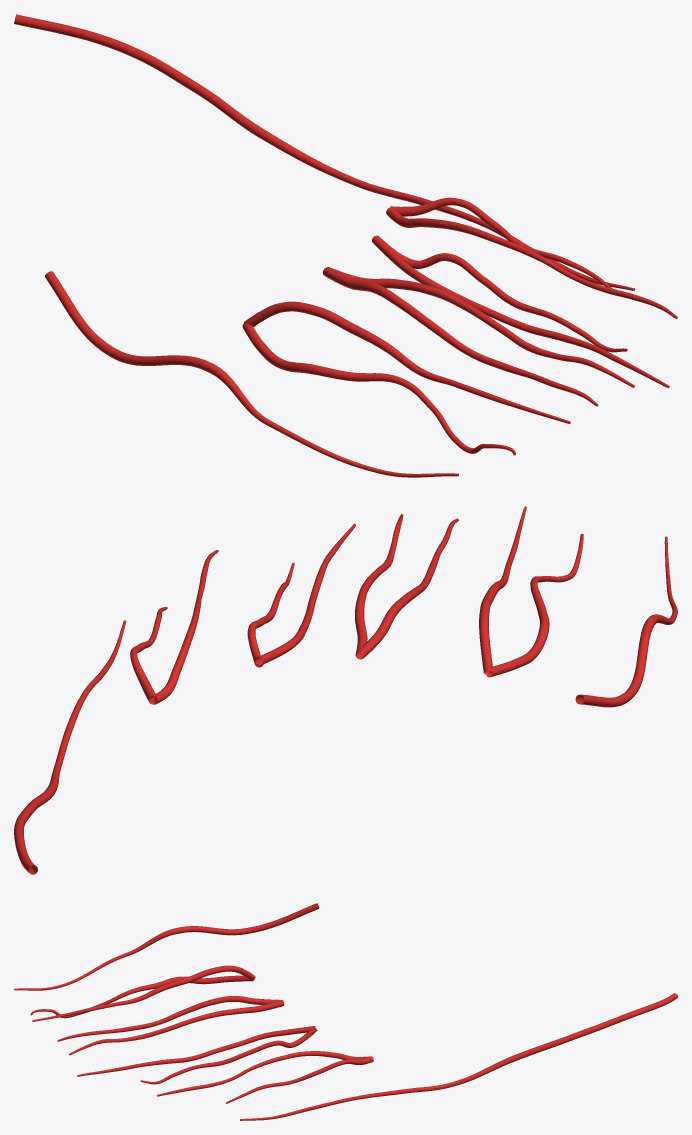
The model's file is circulatorio-plantar-digital-veins-l.glb.
3 renders of one model, top to bottom at view 1: azimuth 30°, elevation 25°; view 2: azimuth 150°, elevation 25°; view 3: azimuth 270°, elevation 25°, orthographic. The views are drawn at different scales.
Parts seen in each view (by area): view 1: Plantar digital veins.l; view 2: Plantar digital veins.l; view 3: Plantar digital veins.l.
Boxes of the visible parts, x1,y1,x2,y2 form: Plantar digital veins.l: (14,14,677,477); Plantar digital veins.l: (14,506,677,874); Plantar digital veins.l: (14,903,677,1120).
Size of the model in its own units: 0.0829 by 0.016 by 0.1479.
